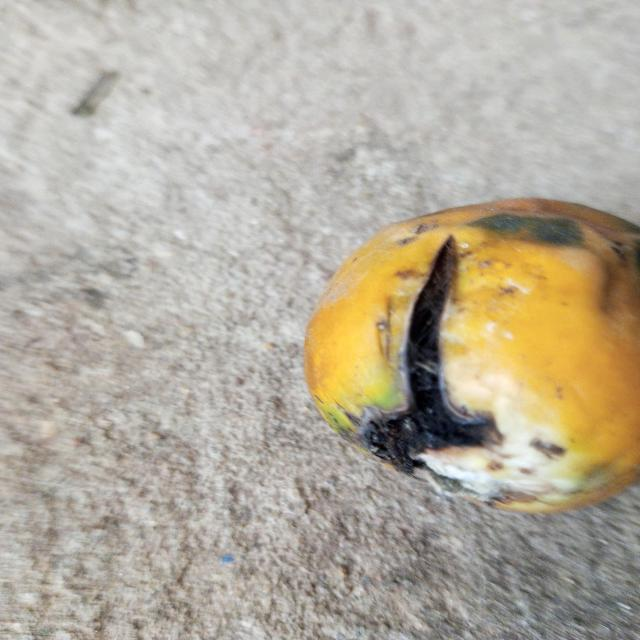damaged: (303, 198, 640, 517)
